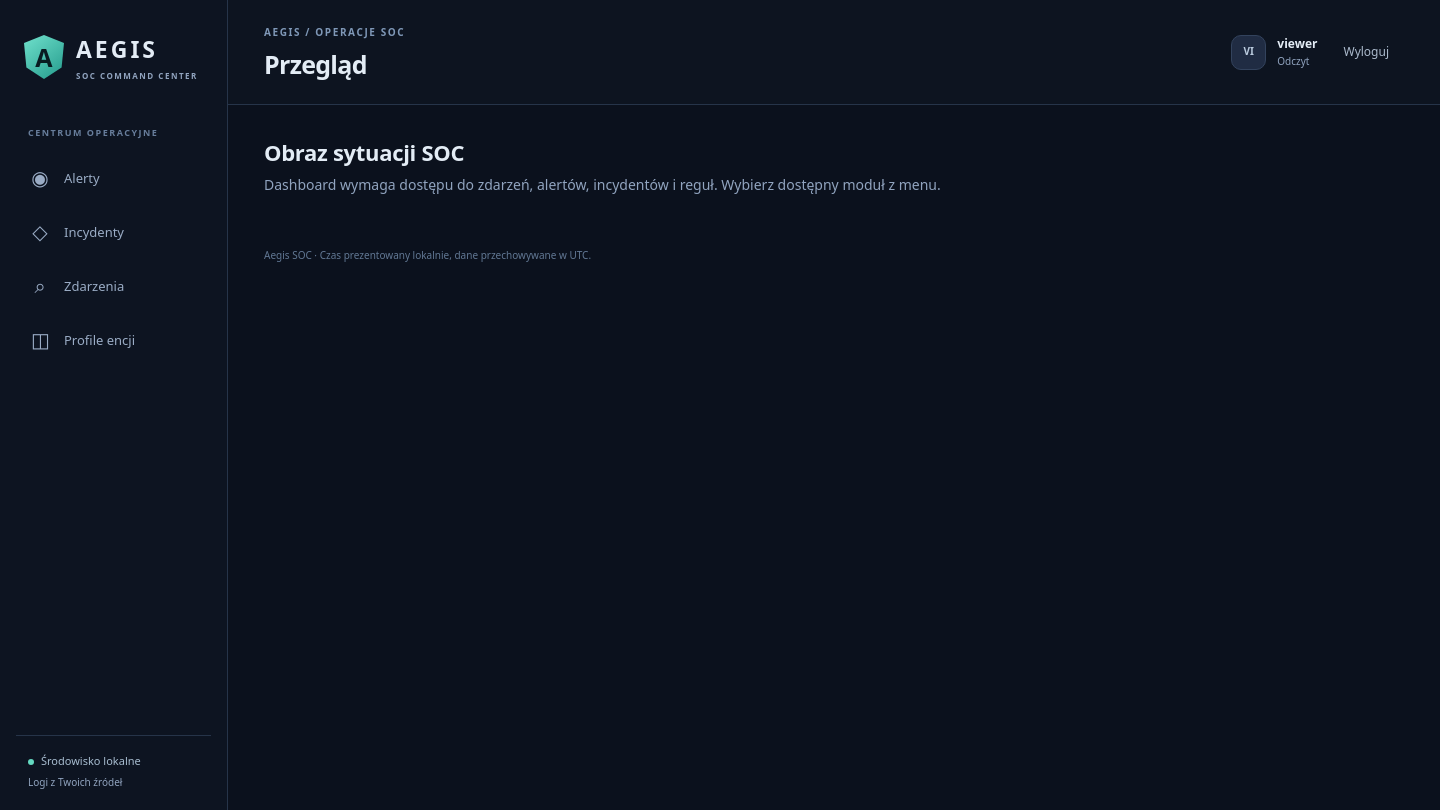
opens the entity navigation with a 30-day UTC live scope and server totals beyond the visible page
Click the button "◫ Profile encji". click: (114, 340)
box: [16, 316, 211, 364]
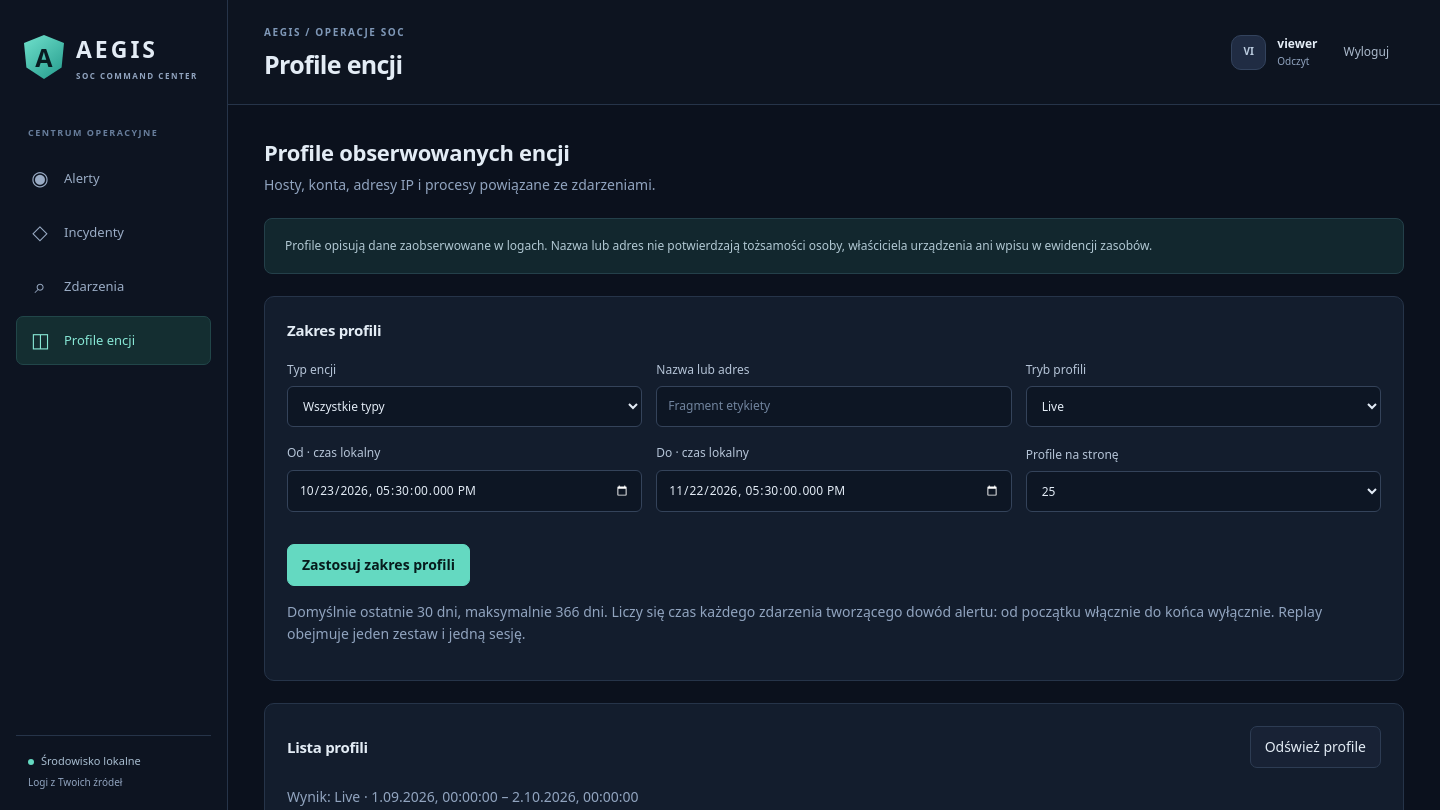
Now the text "Nazwa lub adres nie potwierdzają tożsamości" is shown, box [285, 237, 1152, 254]
